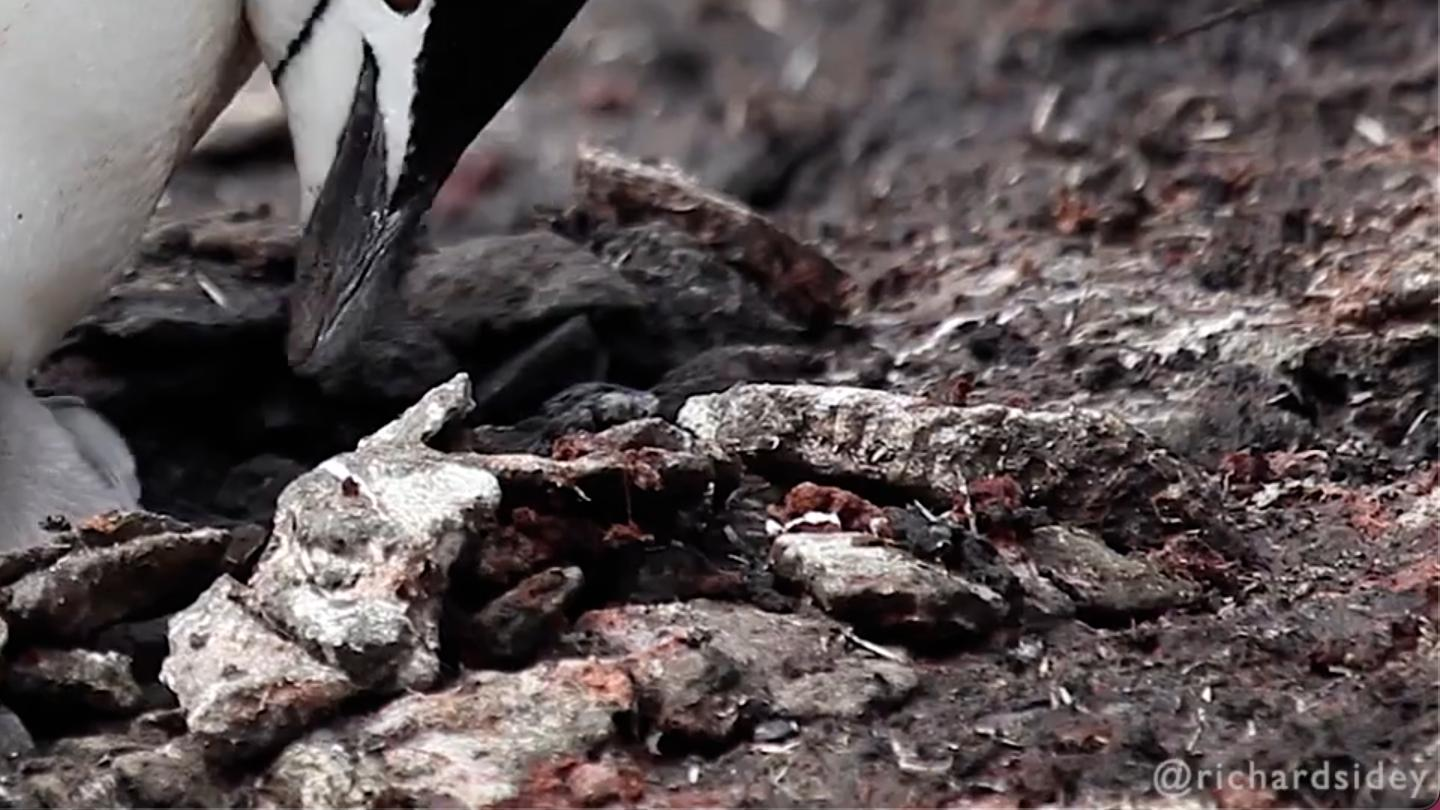Chinstrap Penguin: (0, 0, 688, 636)
